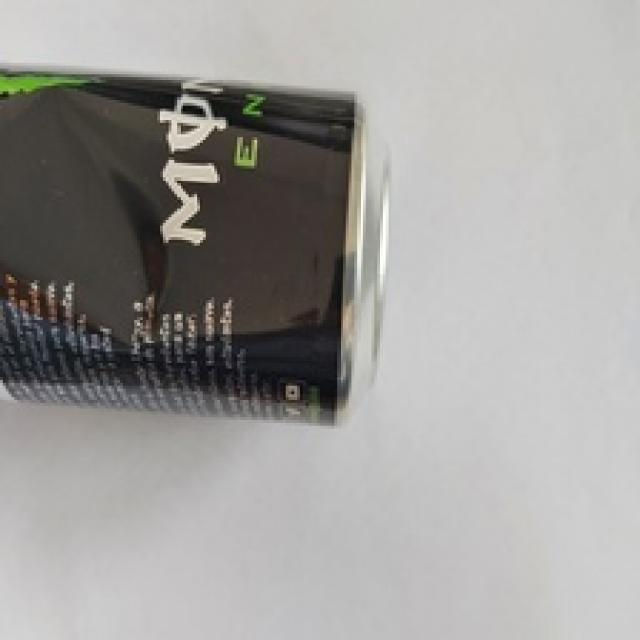recyclable: (0, 65, 396, 431)
